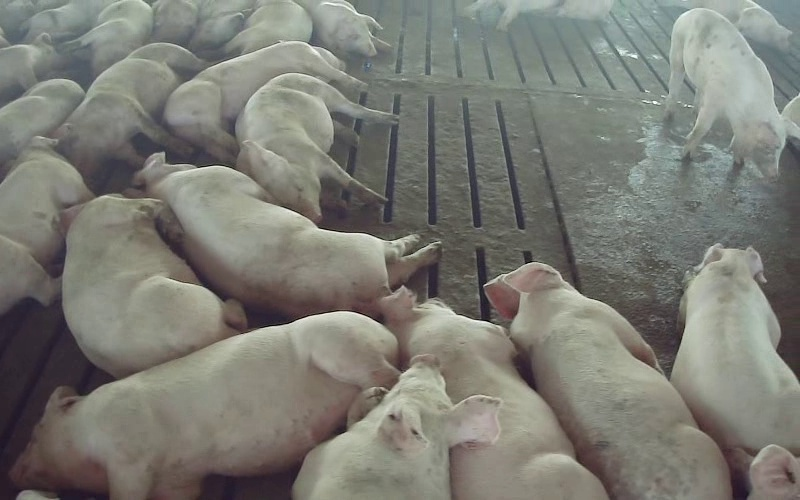pig: (10, 312, 396, 499), (485, 263, 730, 499), (135, 154, 441, 317), (381, 287, 607, 499), (62, 195, 246, 377), (293, 354, 500, 499), (671, 244, 799, 452), (163, 41, 366, 162), (235, 73, 396, 221), (665, 8, 799, 177), (54, 43, 205, 192), (0, 137, 93, 314), (296, 0, 387, 56), (224, 0, 312, 56)
